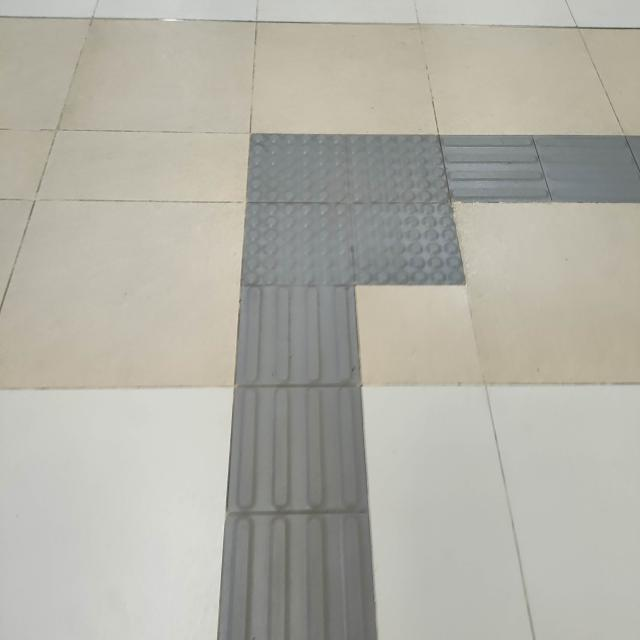kanan: (192, 83, 621, 351)
